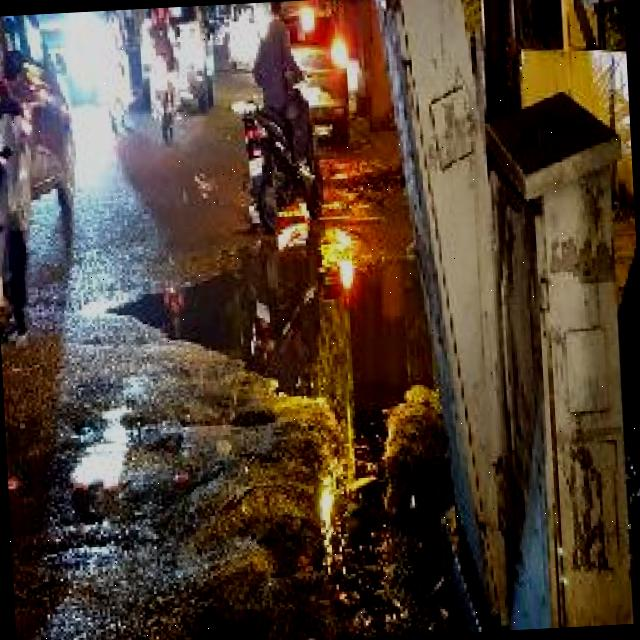stagnation: (98, 213, 429, 416)
